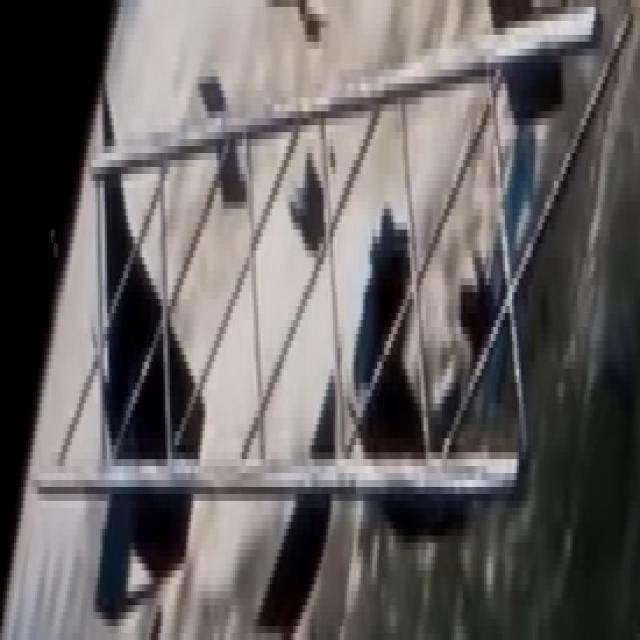large_debris: (40, 16, 608, 544), (353, 183, 408, 428), (484, 0, 568, 142), (92, 72, 120, 408), (288, 115, 328, 277)
